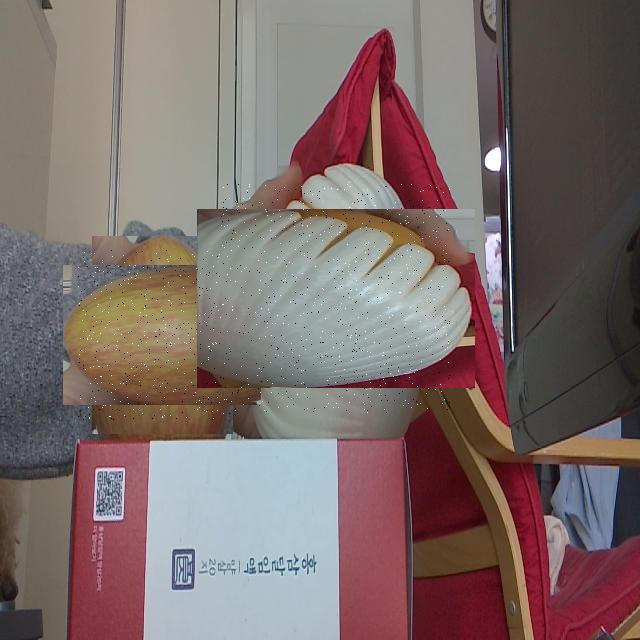apple: (78, 250, 247, 420)
pear: (221, 184, 450, 413)
